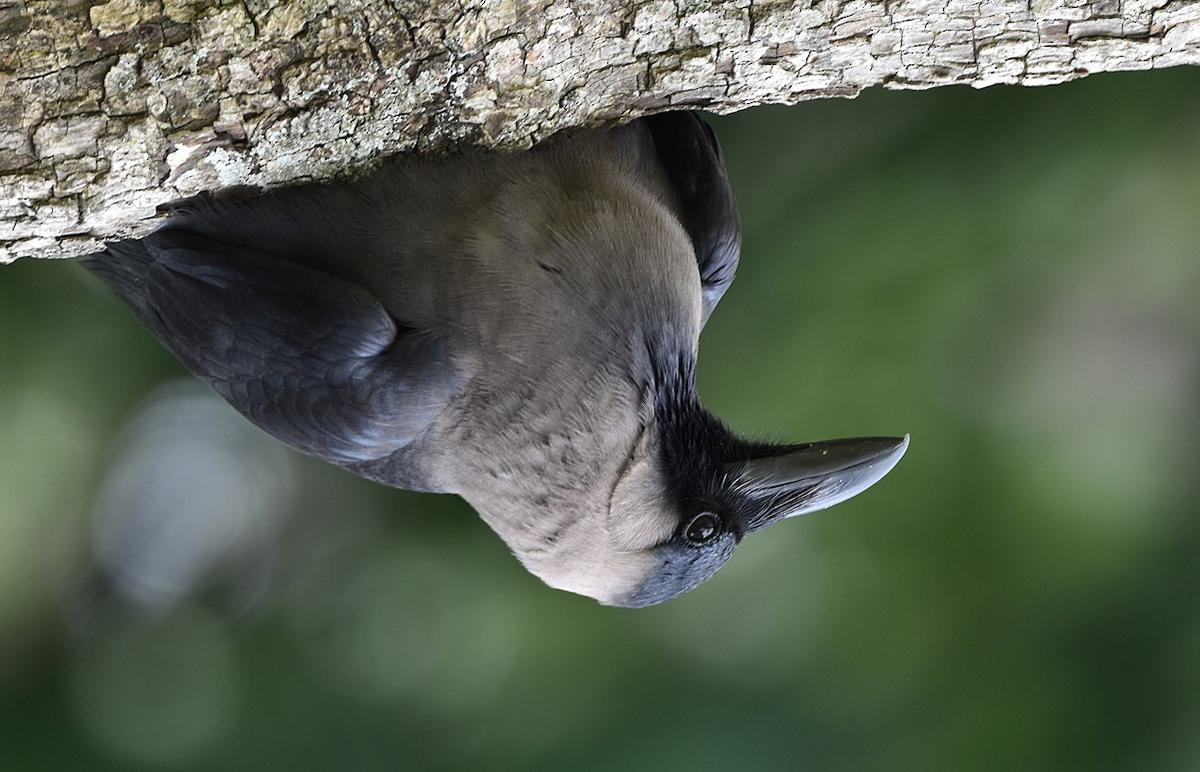crow: (104, 122, 966, 635)
